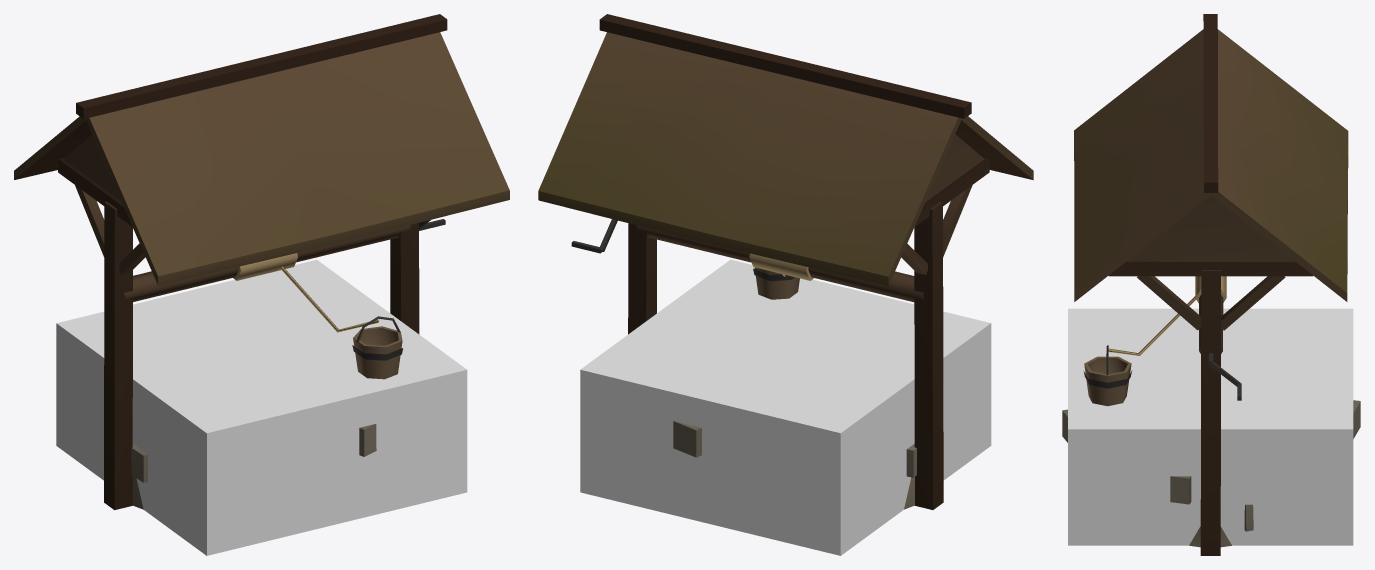
The model's file is well.glb.
3 views of the same model, side by side, from view 1: azimuth 30°, elevation 25°; view 2: azimuth 150°, elevation 25°; view 3: azimuth 270°, elevation 25° (orthographic). The views are drawn at different scales.
Visible parts, largest first — view 1: well, COL_ring; view 2: well, COL_ring; view 3: well, COL_ring.
Boxes of the visible parts, left/top/right/bottom form: well: left=14, top=14, right=509, bottom=510; COL_ring: left=56, top=259, right=467, bottom=555; well: left=538, top=14, right=1033, bottom=509; COL_ring: left=580, top=259, right=991, bottom=555; well: left=1062, top=14, right=1360, bottom=555; COL_ring: left=1068, top=308, right=1353, bottom=545.
Size of the model in its own units: 2.92 by 2.99 by 2.09.
